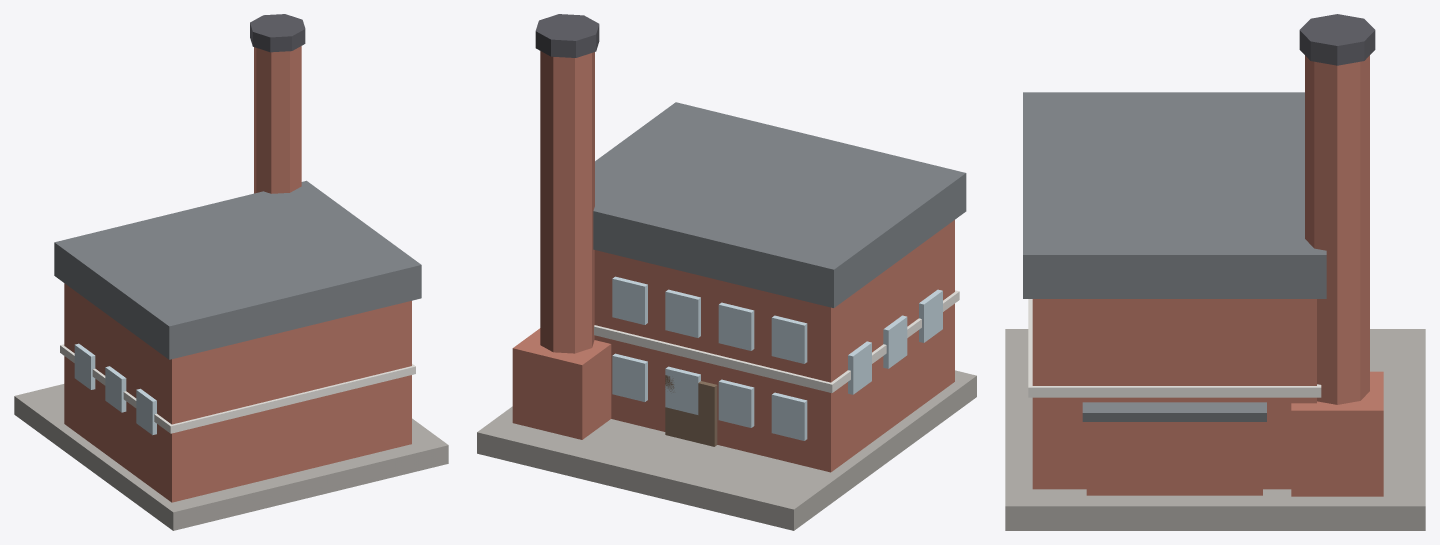
Rendered from industrial_l2_mill.glb.
3 views of the same model, side by side, from view 1: azimuth 30°, elevation 25°; view 2: azimuth 150°, elevation 25°; view 3: azimuth 270°, elevation 25° (orthographic). The views are drawn at different scales.
Parts seen in each view (by area): view 1: Main_Factory, Factory_Roof, Found_Base, Chimney_Stack, Floor_Belt, Chimney_Crown, Win_Side_-0.15, Win_Side_0.15, Win_Side_-0.45; view 2: Factory_Roof, Main_Factory, Found_Base, Chimney_Stack, Chimney_Base, Floor_Belt, Chimney_Crown, Factory_Door, Win_High_-0.48, Win_Low_-0.48, Win_High_-0.22, Win_Low_-0.22 (+7 smaller); view 3: Factory_Roof, Main_Factory, Found_Base, Chimney_Stack, Boiler_Annex, Chimney_Base, Floor_Belt, Annex_Roof, Chimney_Crown.
Part boxes in pixels (x1,y1,x2,y2): Main_Factory: (64, 283, 411, 502); Factory_Roof: (54, 180, 421, 359); Found_Base: (14, 384, 448, 530); Chimney_Stack: (254, 46, 301, 193); Floor_Belt: (60, 344, 415, 433); Chimney_Crown: (250, 14, 305, 52); Win_Side_-0.15: (105, 366, 126, 412); Win_Side_0.15: (74, 343, 95, 389); Win_Side_-0.45: (136, 388, 156, 435); Factory_Roof: (593, 102, 966, 307); Main_Factory: (594, 220, 954, 472); Found_Base: (477, 370, 976, 530); Chimney_Stack: (540, 51, 594, 353); Chimney_Base: (512, 328, 611, 439); Floor_Belt: (594, 290, 959, 392); Chimney_Crown: (535, 14, 599, 57); Factory_Door: (665, 375, 717, 446); Win_High_-0.48: (771, 315, 807, 363); Win_Low_-0.48: (771, 392, 807, 440); Win_High_-0.22: (718, 302, 754, 350); Win_Low_-0.22: (718, 379, 754, 427); Factory_Roof: (1023, 92, 1326, 298); Main_Factory: (1032, 299, 1316, 489); Found_Base: (1005, 329, 1425, 530); Chimney_Stack: (1305, 55, 1369, 404); Boiler_Annex: (1086, 422, 1262, 495); Chimney_Base: (1291, 371, 1383, 496); Floor_Belt: (1028, 299, 1321, 397); Annex_Roof: (1082, 402, 1266, 421); Chimney_Crown: (1299, 14, 1375, 65).
Bounding box in the file's own units: 1.55 × 1.92 × 1.55.
